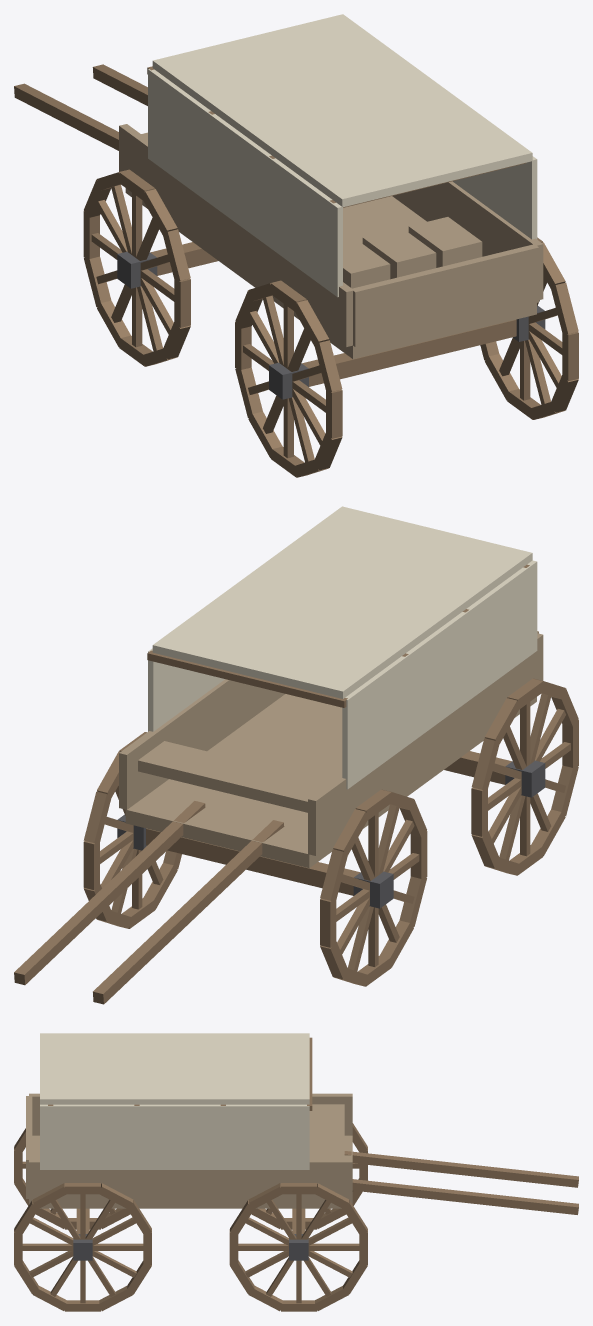
File: draught_wagon.glb
The picture shows the model from 3 angles, top to bottom: view 1: azimuth 30°, elevation 25°; view 2: azimuth 150°, elevation 25°; view 3: azimuth 270°, elevation 25°; orthographic projection. The views are drawn at different scales.
Parts seen in each view (by area): view 1: wagon_body, wheel_fl, wheel_rl, wheel_rr; view 2: wagon_body, wheel_fl, wheel_rl, wheel_fr; view 3: wagon_body, wheel_fr, wheel_rr, wheel_rl, wheel_fl.
Boxes of the visible parts, x1,y1,x2,y2 form: wagon_body: (14,14,543,386); wheel_fl: (83,169,190,366); wheel_rl: (235,280,342,477); wheel_rr: (480,237,578,419); wagon_body: (14,506,543,1004); wheel_fl: (320,789,427,986); wheel_rl: (471,678,578,875); wheel_fr: (83,732,181,928); wagon_body: (26,1033,578,1233); wheel_fr: (229,1183,367,1311); wheel_rr: (14,1183,151,1311); wheel_rl: (14,1128,130,1229); wheel_fl: (251,1123,367,1229).
Size of the model in its own units: 2 by 2.07 by 5.24.
